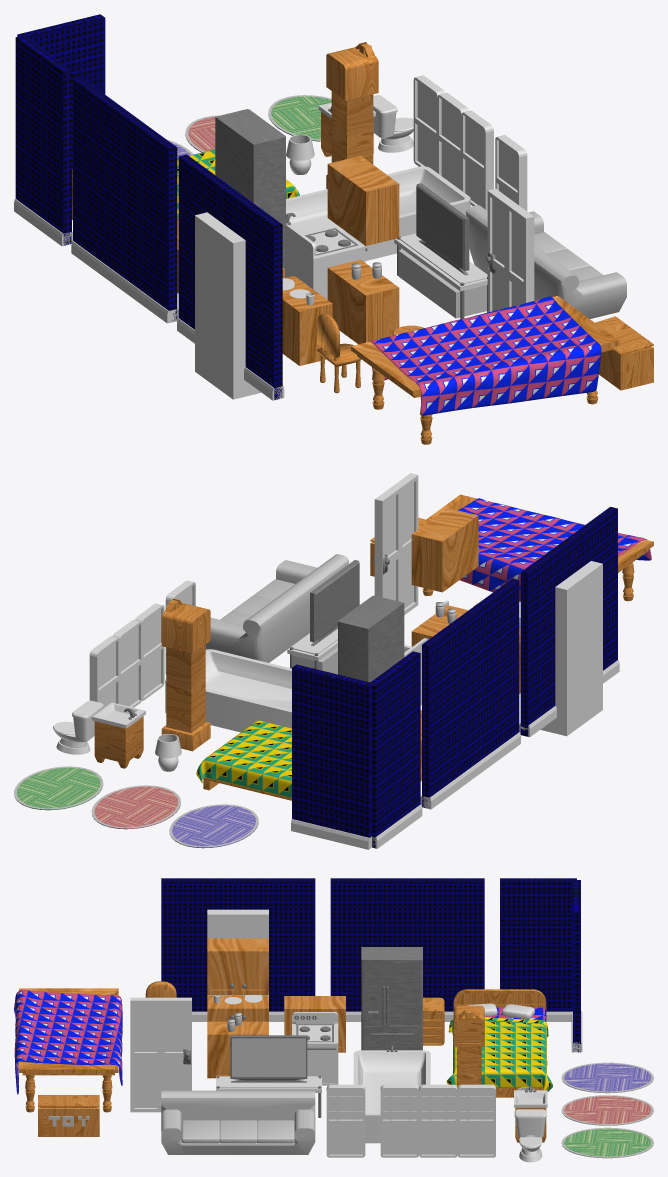
The model's file is Carpet.fbx.
3 views of the same model, one above another, from view 1: azimuth 30°, elevation 25°; view 2: azimuth 150°, elevation 25°; view 3: azimuth 270°, elevation 25° (orthographic). The views are drawn at different scales.
Parts seen in each view (by area): view 1: Plane, Wall, Wall.Corner, Wall.Doorway, CupboardsFull, Cube, Window 1x3, Couch, Fridge, Grandfather Clock, Door, Bathtub (+13 smaller); view 2: Wall.Corner, Wall, Wall.Doorway, Plane, Cube, Couch, Grandfather Clock, Bathtub, Window 1x3, CupboardsFull, Bed, Door (+10 smaller); view 3: Wall, Wall.Doorway, Wall.Corner, Plane, Couch, Window 1x3, Bed, Door, Fridge, CupboardsFull, TV, Bathtub (+15 smaller).
Part boxes in pixels (<box>): Plane: <box>351,295,619,444</box>; Wall: <box>71,77,178,323</box>; Wall.Corner: <box>14,14,105,246</box>; Wall.Doorway: <box>177,154,284,400</box>; CupboardsFull: <box>327,155,399,344</box>; Cube: <box>195,212,261,399</box>; Window 1x3: <box>413,75,493,210</box>; Couch: <box>465,205,626,318</box>; Fridge: <box>215,109,285,268</box>; Grandfather Clock: <box>326,42,378,188</box>; Door: <box>485,188,534,312</box>; Bathtub: <box>286,166,470,260</box>; Wall.Corner: <box>291,651,422,849</box>; Wall: <box>420,579,520,809</box>; Wall.Doorway: <box>519,507,619,737</box>; Plane: <box>418,494,653,601</box>; Cube: <box>540,561,602,736</box>; Couch: <box>205,554,348,662</box>; Grandfather Clock: <box>161,598,210,751</box>; Bathtub: <box>165,649,291,732</box>; Window 1x3: <box>89,603,164,708</box>; CupboardsFull: <box>411,508,478,646</box>; Bed: <box>196,720,291,800</box>; Door: <box>373,473,418,614</box>; Wall: <box>330,878,484,1021</box>; Wall.Doorway: <box>161,878,315,1021</box>; Wall.Corner: <box>500,878,582,1052</box>; Plane: <box>14,988,122,1112</box>; Couch: <box>161,1090,315,1154</box>; Window 1x3: <box>380,1084,495,1157</box>; Bed: <box>446,989,552,1097</box>; Door: <box>130,997,191,1112</box>; Fridge: <box>361,947,422,1050</box>; CupboardsFull: <box>207,938,268,1078</box>; TV: <box>230,1035,307,1082</box>; Bathtub: <box>353,1045,430,1143</box>.
Bounding box in the file's own units: 2315 × 1100 × 4156.
